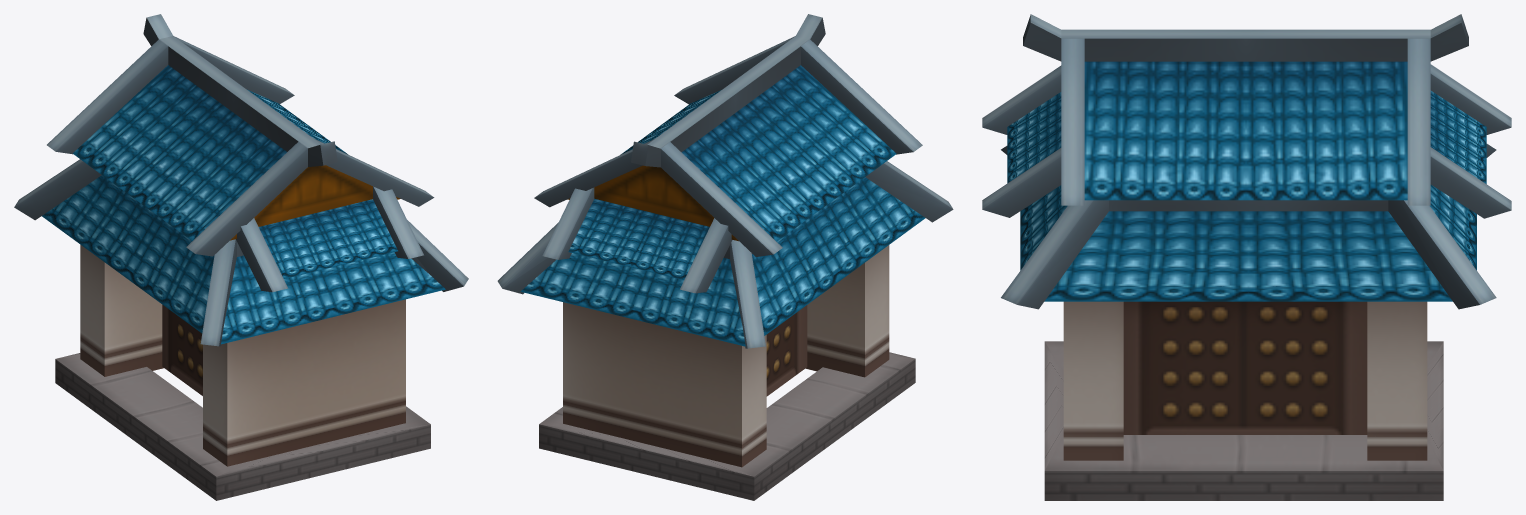
Rendered from QSMY_City_YuanQiang03.FBX.
The picture shows the model from 3 angles, left to right: view 1: azimuth 30°, elevation 25°; view 2: azimuth 150°, elevation 25°; view 3: azimuth 270°, elevation 25°; orthographic projection. The views are drawn at different scales.
Visible parts, largest first — view 1: Object129; view 2: Object129; view 3: Object129.
Part boxes in pixels (x1,y1,x2,y2): Object129: (14,14,468,500); Object129: (497,14,953,500); Object129: (982,14,1511,500).
Size of the model in its own units: 8.52 by 10.21 by 11.75.
